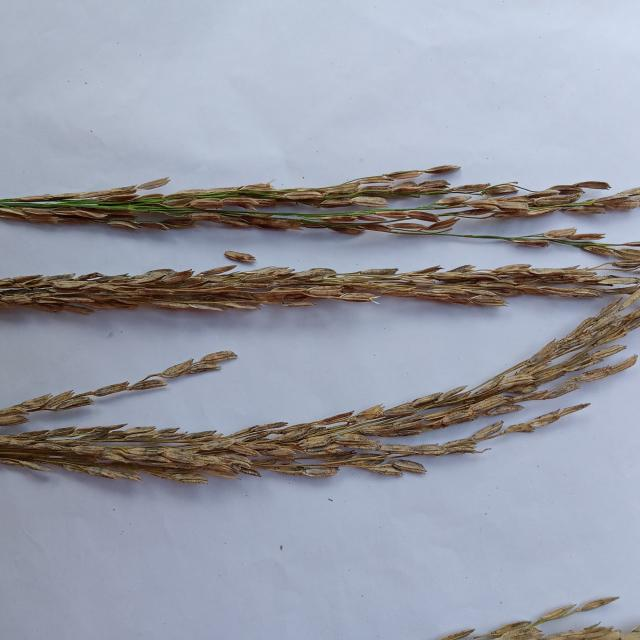Neck_Blast: (0, 298, 624, 477), (0, 180, 631, 231), (1, 267, 599, 305)
